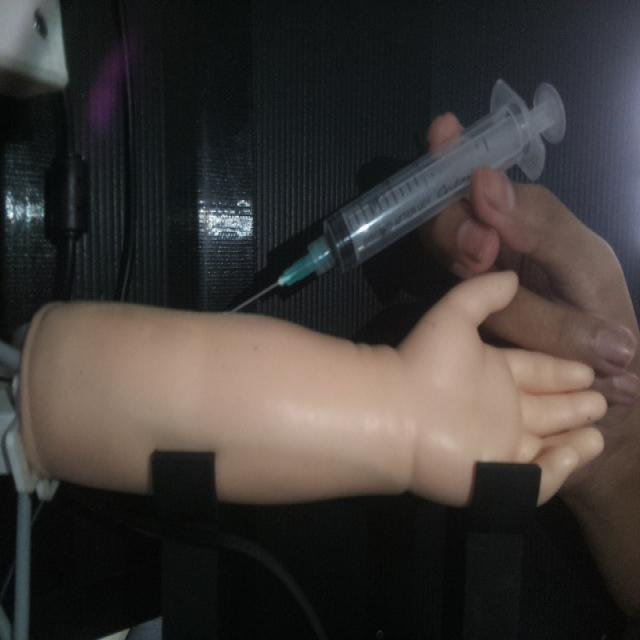Outside: (226, 63, 570, 316)
